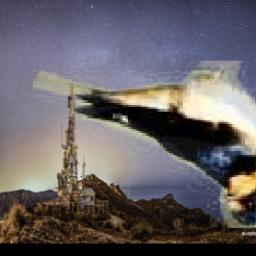Swallow: (33, 61, 256, 228)
